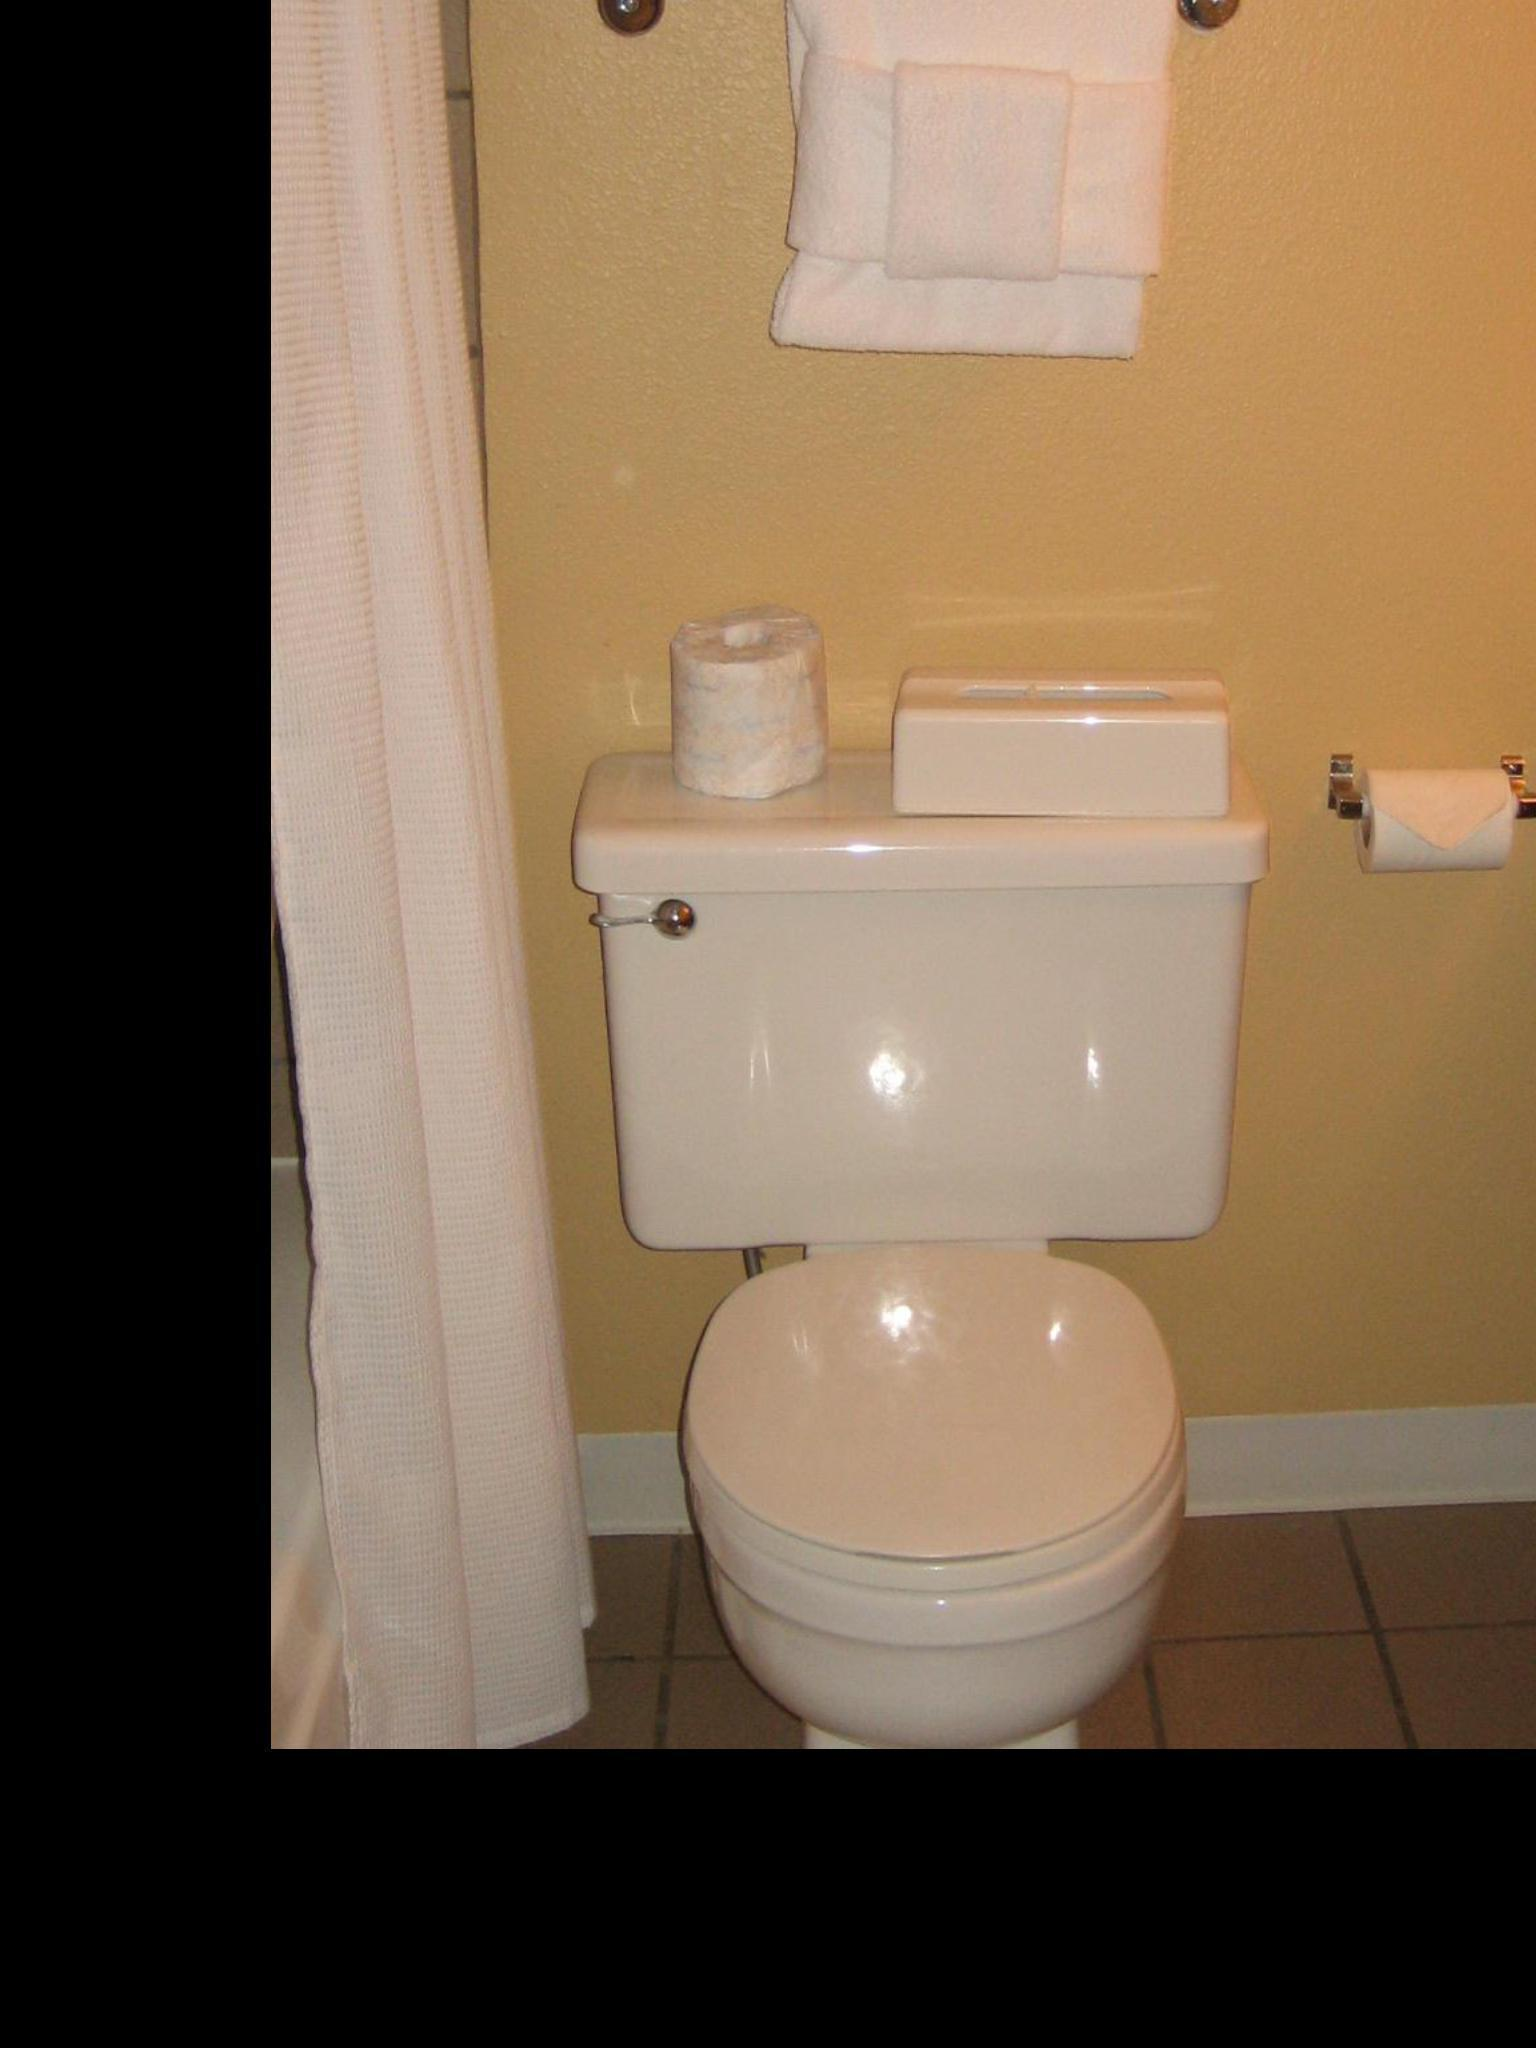Sanitario: (542, 701, 1313, 1964)
